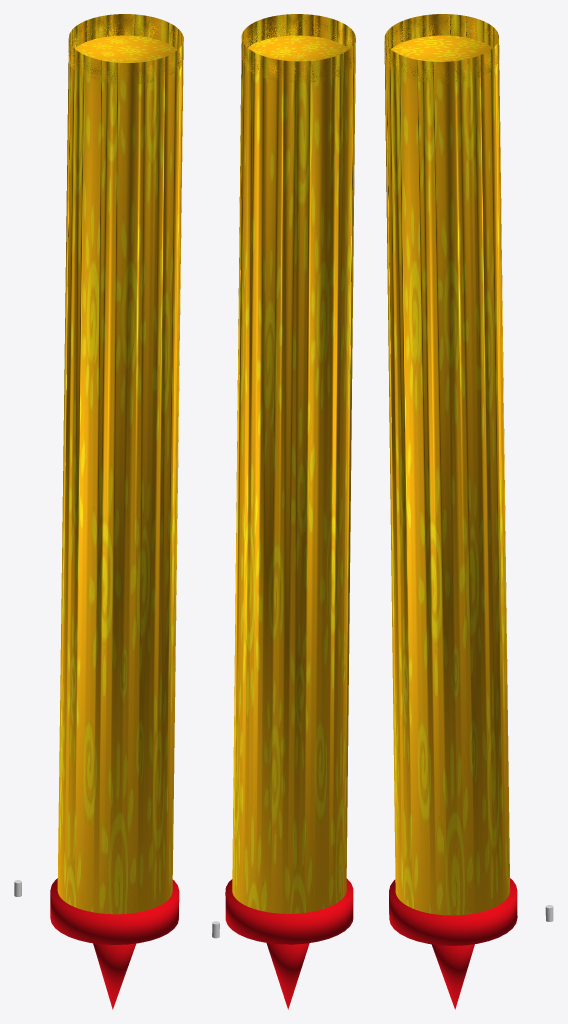
File: sparkler2.glb
3 views of the same model, side by side, from view 1: azimuth 90°, elevation 25°; view 2: azimuth 150°, elevation 25°; view 3: azimuth 270°, elevation 25° (orthographic).
Parts seen in each view (by area): view 1: Candle_Body, Candle_Collar, Candle_Tip; view 2: Candle_Body, Candle_Collar, Candle_Tip; view 3: Candle_Body, Candle_Collar, Candle_Tip.
Boxes of the visible parts, x1,y1,x2,y2 form: Candle_Body: (57, 14, 183, 914); Candle_Collar: (50, 878, 179, 944); Candle_Tip: (93, 943, 135, 1009); Candle_Body: (232, 14, 355, 913); Candle_Collar: (225, 878, 353, 944); Candle_Tip: (266, 943, 309, 1009); Candle_Body: (384, 14, 510, 915); Candle_Collar: (389, 878, 517, 945); Candle_Tip: (431, 944, 474, 1009).
Size of the model in its own units: 0.1068 by 0.8899 by 0.1404.
3 materials, 1 textured.
